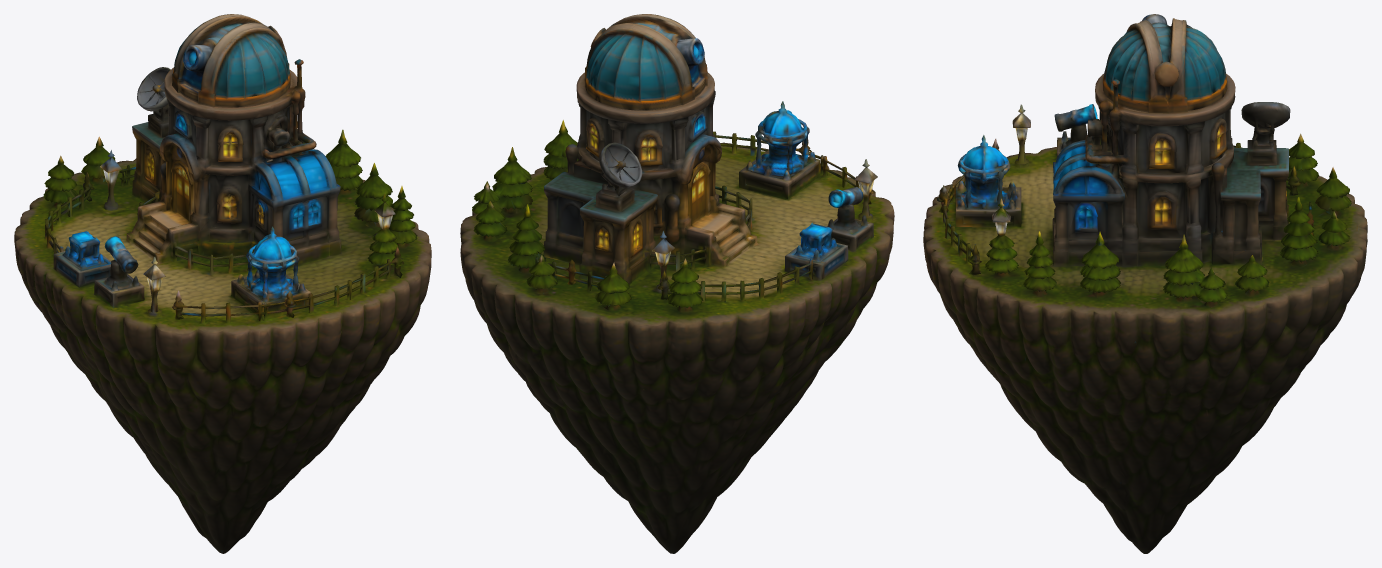
Rendered from research.glb.
3 renders of one model, left to right at view 1: azimuth 30°, elevation 25°; view 2: azimuth 150°, elevation 25°; view 3: azimuth 270°, elevation 25°, orthographic. The views are drawn at different scales.
Parts seen in each view (by area): view 1: node_0; view 2: node_0; view 3: node_0.
Part boxes in pixels (x1,y1,x2,y2): node_0: (14, 14, 431, 553); node_0: (460, 14, 894, 553); node_0: (923, 14, 1367, 553).
Bounding box in the file's own units: 0.827 × 1.19 × 0.8908.
1 material, 1 textured.
